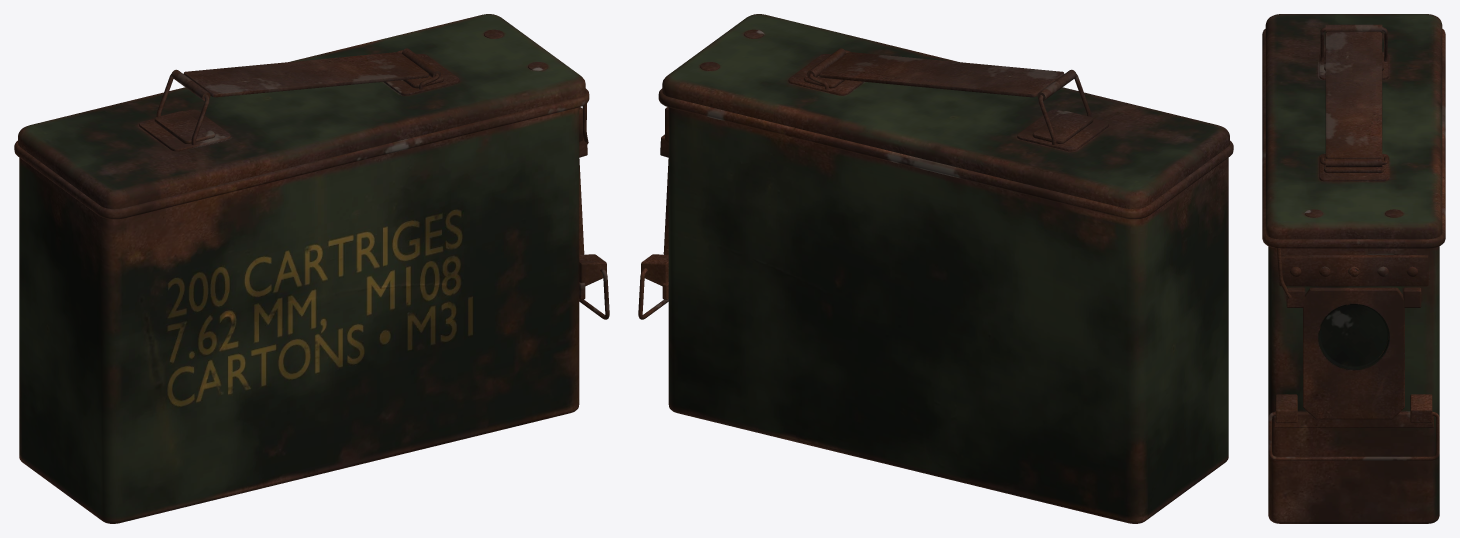
Rendered from ammo-box.glb.
3 renders of one model, left to right at view 1: azimuth 30°, elevation 25°; view 2: azimuth 150°, elevation 25°; view 3: azimuth 270°, elevation 25°, orthographic. The views are drawn at different scales.
Parts seen in each view (by area): view 1: SM_AmmoBox_Body, SM_AmmoBox_Lid, SM_AmmoBox_Handle, SM_AmmoBox_HandleBracketL, SM_AmmoBox_HandleBracketR, SM_AmmoBox_LowerBracket; view 2: SM_AmmoBox_Body, SM_AmmoBox_Lid, SM_AmmoBox_Handle, SM_AmmoBox_HandleBracketL, SM_AmmoBox_HandleBracketR, SM_AmmoBox_LowerBracket; view 3: SM_AmmoBox_Lid, SM_AmmoBox_Body, SM_AmmoBox_LatchLever, SM_AmmoBox_Handle, SM_AmmoBox_RivetStrip, SM_AmmoBox_LowerBracket, SM_AmmoBox_Bail, SM_AmmoBox_HandleBracketR, SM_AmmoBox_HandleBracketL, SM_AmmoBox_HandleWireL, SM_AmmoBox_LidWire.
Boxes of the visible parts, x1,y1,x2,y2 form: SM_AmmoBox_Body: [19, 107, 579, 523]; SM_AmmoBox_Lid: [14, 14, 589, 219]; SM_AmmoBox_Handle: [171, 48, 440, 100]; SM_AmmoBox_HandleBracketL: [139, 109, 230, 151]; SM_AmmoBox_HandleBracketR: [383, 54, 459, 95]; SM_AmmoBox_LowerBracket: [579, 254, 606, 299]; SM_AmmoBox_Body: [668, 107, 1228, 523]; SM_AmmoBox_Lid: [658, 14, 1233, 219]; SM_AmmoBox_Handle: [807, 48, 1076, 100]; SM_AmmoBox_HandleBracketL: [1017, 109, 1108, 151]; SM_AmmoBox_HandleBracketR: [788, 54, 864, 95]; SM_AmmoBox_LowerBracket: [641, 254, 668, 299]; SM_AmmoBox_Lid: [1262, 14, 1445, 248]; SM_AmmoBox_Body: [1268, 246, 1439, 523]; SM_AmmoBox_LatchLever: [1286, 287, 1421, 419]; SM_AmmoBox_Handle: [1325, 24, 1382, 167]; SM_AmmoBox_RivetStrip: [1279, 255, 1428, 286]; SM_AmmoBox_LowerBracket: [1274, 394, 1433, 427]; SM_AmmoBox_Bail: [1268, 412, 1439, 460]; SM_AmmoBox_HandleBracketR: [1319, 153, 1388, 181]; SM_AmmoBox_HandleBracketL: [1319, 52, 1388, 79]; SM_AmmoBox_HandleWireL: [1320, 27, 1387, 61]; SM_AmmoBox_LidWire: [1276, 248, 1291, 298].
Bounding box in the file's own units: 0.2928 × 0.2099 × 0.1006.
3 materials, 3 textured.
